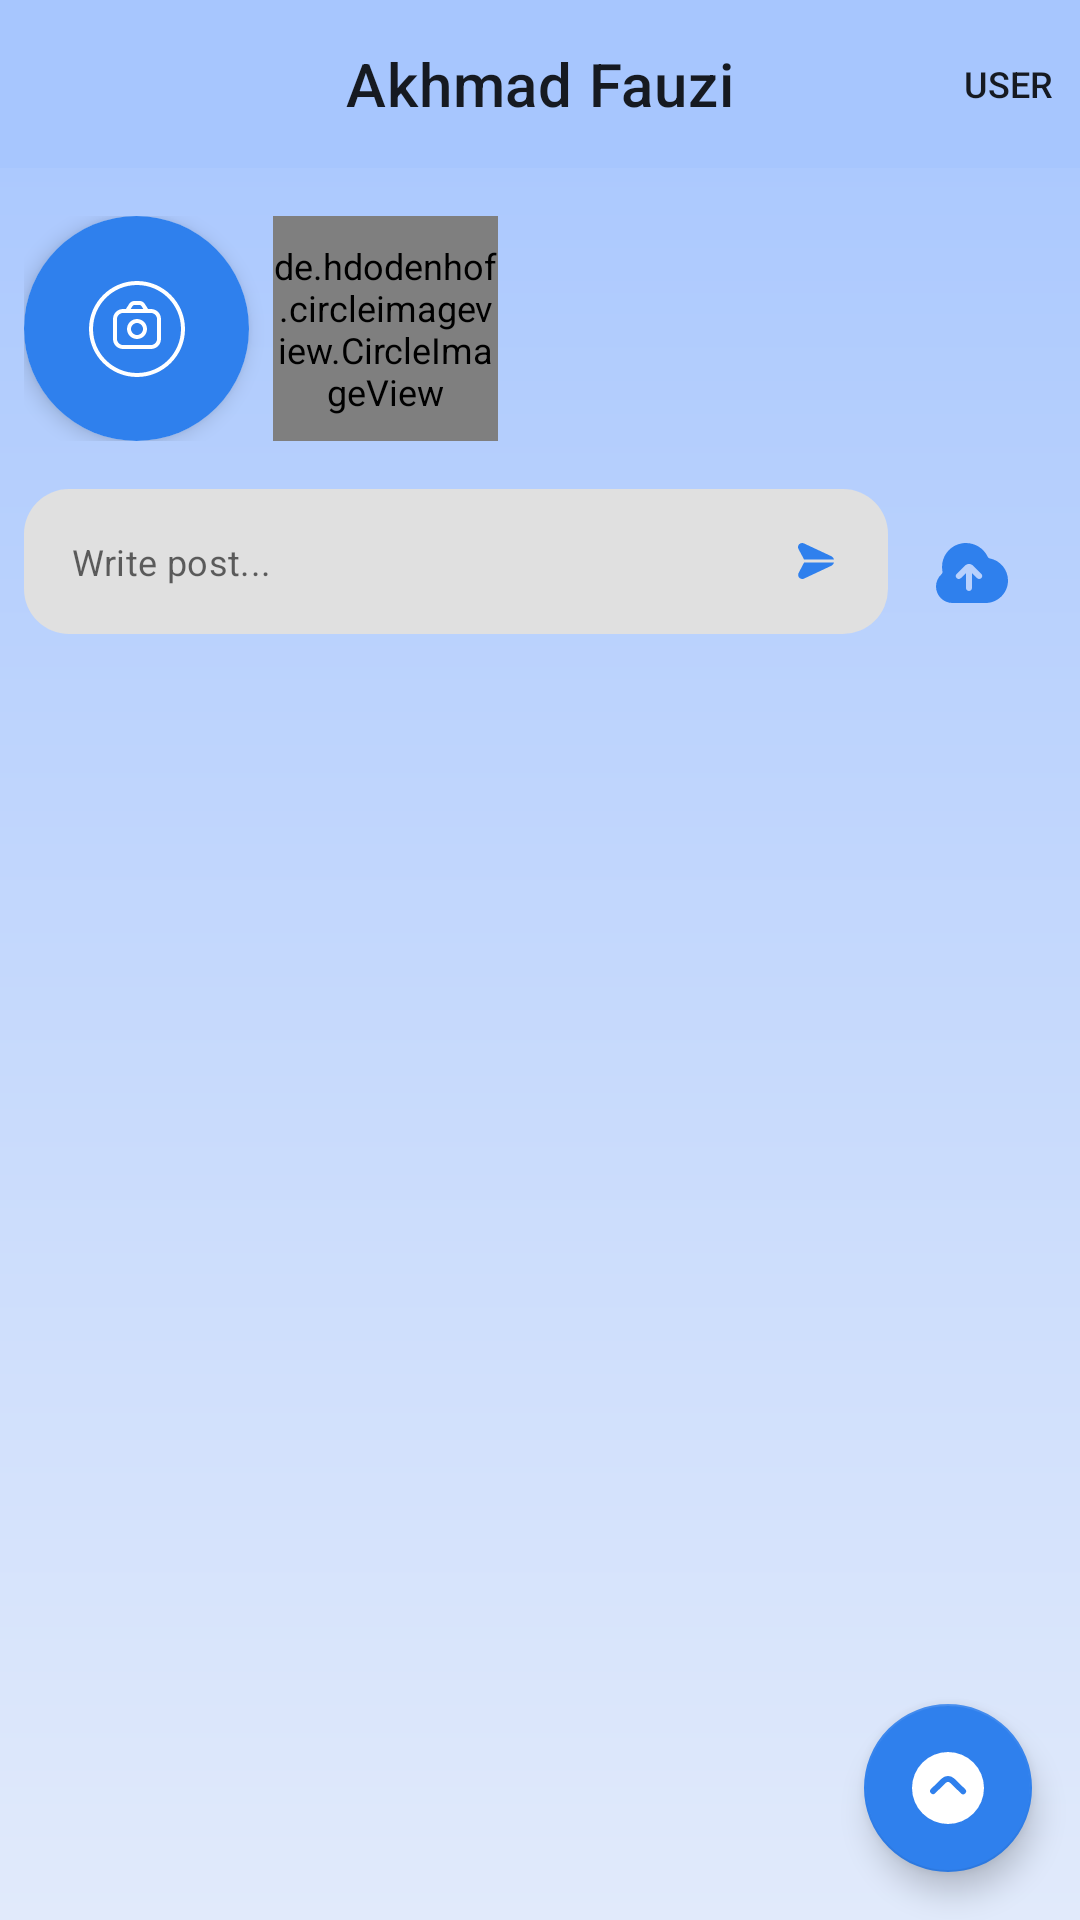

Icons on this 1080px×1920px Android screen, each with its box as [x1,y1,x2,y2]:
angle circle up: [864,1704,1032,1872]
circle camera: [89,281,185,377]
upload: [936,543,1008,603]
